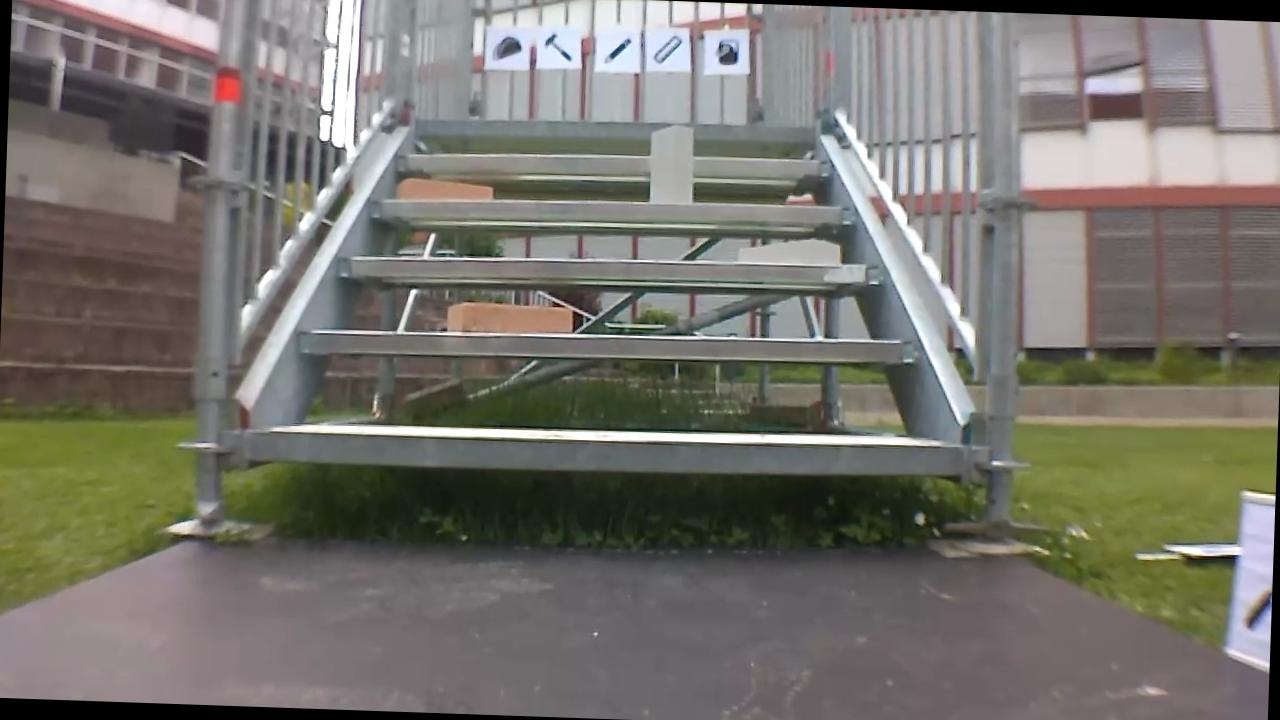brick: (446, 302, 569, 334), (649, 126, 694, 205), (740, 237, 838, 264), (398, 178, 491, 200)
bucket: (710, 34, 742, 69)
edge: (246, 420, 965, 485), (297, 320, 916, 372), (338, 246, 888, 291), (367, 189, 857, 230), (396, 147, 833, 183), (414, 113, 813, 146)
hammer: (537, 29, 578, 65)
pencil: (599, 28, 635, 70)
ruler: (649, 29, 687, 67)
steps: (240, 102, 983, 490)
taco: (487, 29, 525, 65)
